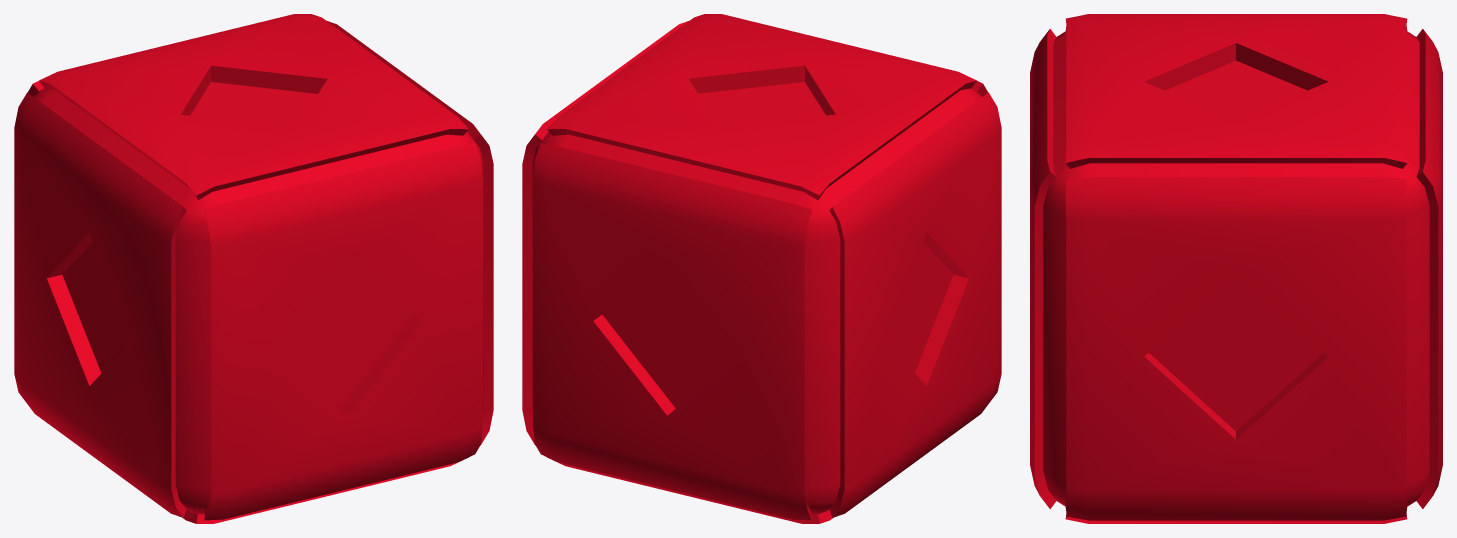
3 views of the same model, side by side, from view 1: azimuth 30°, elevation 25°; view 2: azimuth 150°, elevation 25°; view 3: azimuth 270°, elevation 25° (orthographic). The views are drawn at different scales.
Visible parts, largest first — view 1: Cube; view 2: Cube; view 3: Cube.
Part boxes in pixels (left/top/right/bottom): Cube: left=14, top=14, right=493, bottom=523; Cube: left=522, top=14, right=1001, bottom=523; Cube: left=1030, top=14, right=1442, bottom=523.
Bounding box in the file's own units: 200 × 200 × 200.
